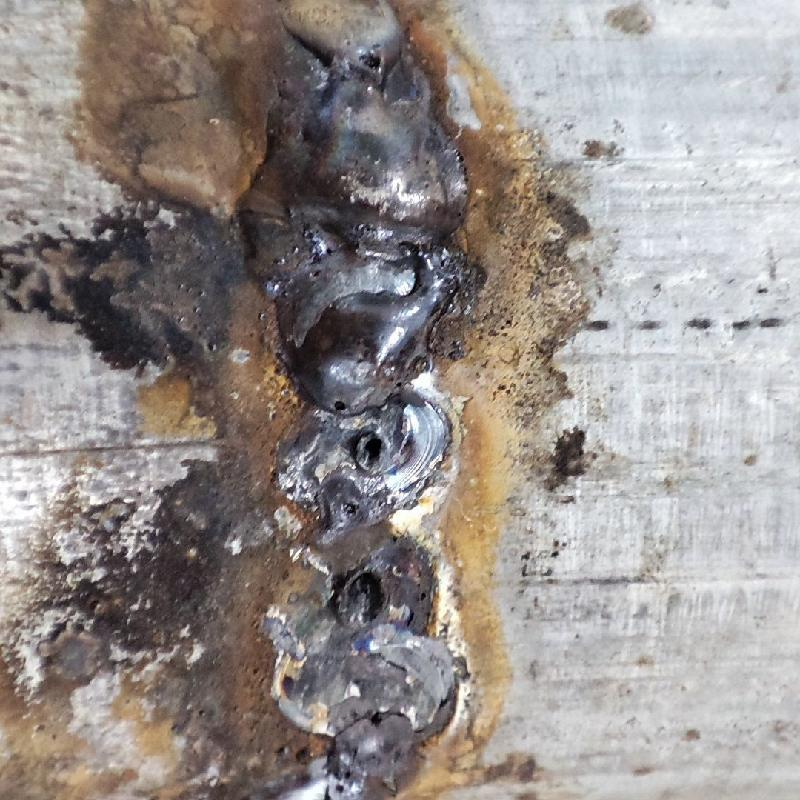Not_fully_soldered: (268, 410, 468, 794), (252, 2, 434, 87)
Surface_pores: (338, 34, 404, 80), (317, 374, 371, 430), (340, 429, 396, 476)
Weld: (252, 91, 475, 421)
